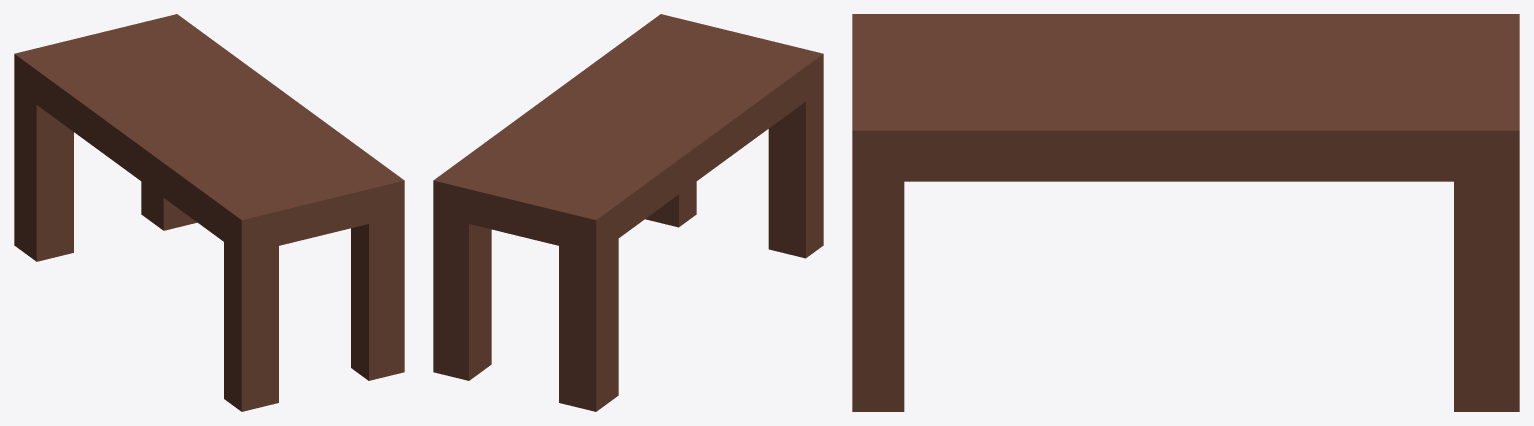
Rendered from desk.glb.
The picture shows the model from 3 angles, left to right: view 1: azimuth 30°, elevation 25°; view 2: azimuth 150°, elevation 25°; view 3: azimuth 270°, elevation 25°; orthographic projection. The views are drawn at different scales.
Visible parts, largest first — view 1: Cube; view 2: Cube; view 3: Cube.
Part boxes in pixels (x1,y1,x2,y2): Cube: (14, 14, 404, 411); Cube: (433, 14, 823, 411); Cube: (852, 14, 1519, 411).
Bounding box in the file's own units: 3.07 × 3.46 × 7.43.
